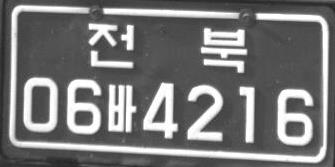0: (23, 76, 58, 133)
1: (232, 84, 264, 143)
2: (186, 82, 223, 141)
4: (143, 82, 178, 139)
6: (276, 87, 313, 145), (66, 77, 102, 133)
바: (107, 83, 136, 132)
전북_D: (87, 23, 248, 73)
